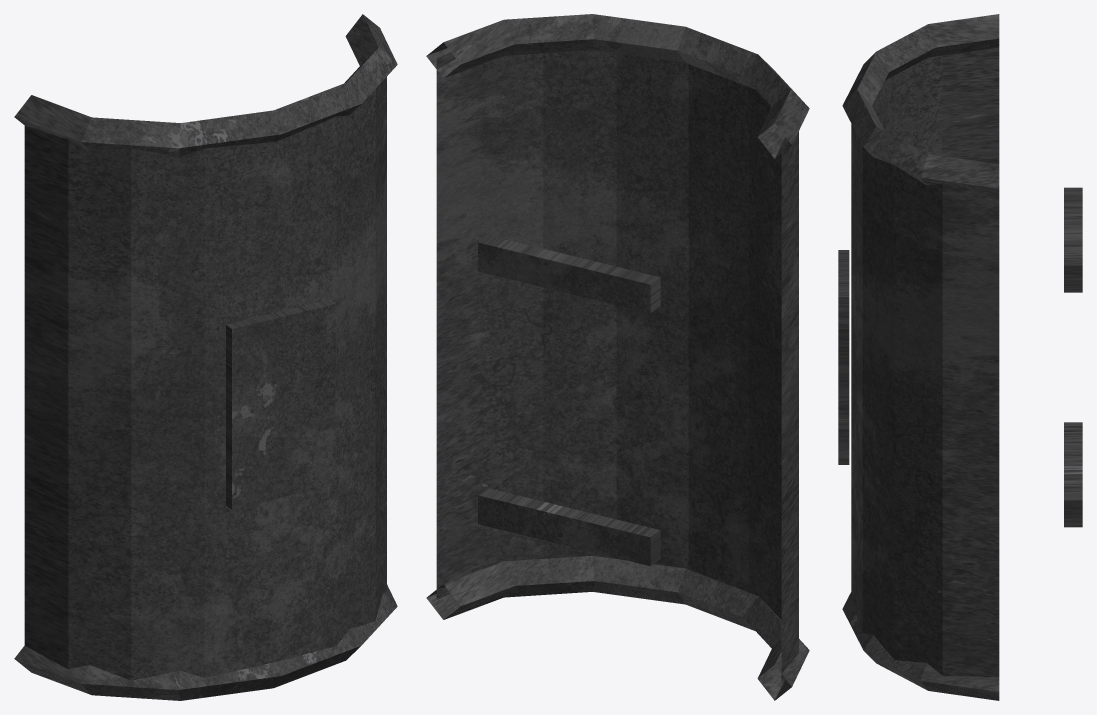
The model's file is bracer.glb.
3 renders of one model, left to right at view 1: azimuth 30°, elevation 25°; view 2: azimuth 150°, elevation 25°; view 3: azimuth 270°, elevation 25°, orthographic. The views are drawn at different scales.
Visible parts, largest first — view 1: bracer; view 2: bracer; view 3: bracer.
Part boxes in pixels (x1,y1,x2,y2): bracer: [14, 14, 397, 700]; bracer: [426, 14, 809, 700]; bracer: [838, 14, 1082, 700].
Bounding box in the file's own units: 0.106 × 0.16 × 0.066.
1 material, 1 textured.
